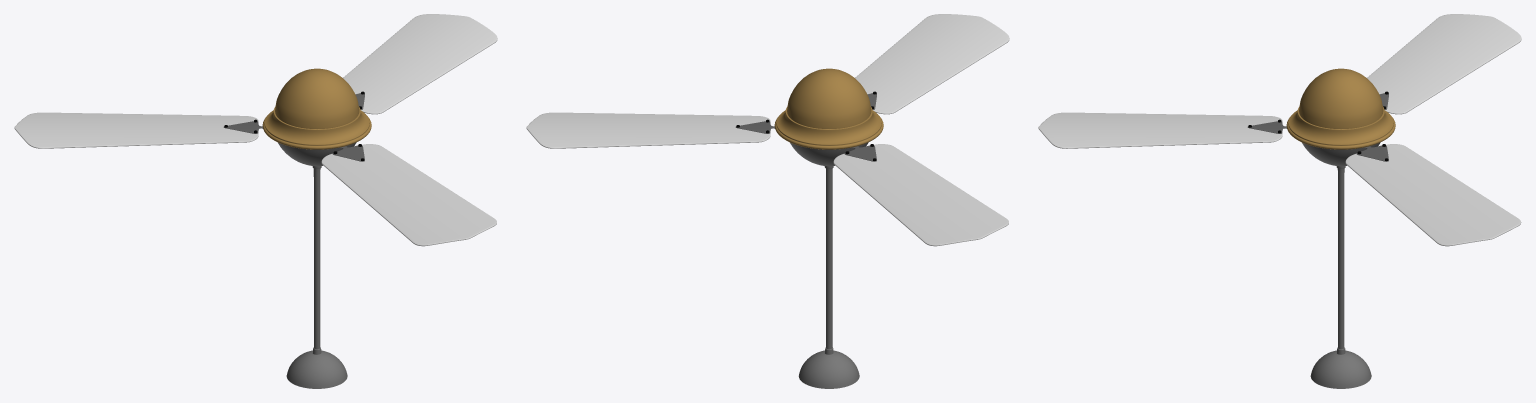
Rendered from CeilingFan.fbx.
3 renders of one model, left to right at view 1: azimuth 30°, elevation 25°; view 2: azimuth 150°, elevation 25°; view 3: azimuth 270°, elevation 25°, orthographic.
Parts seen in each view (by area): view 1: CeilingFan; view 2: CeilingFan; view 3: CeilingFan.
Part boxes in pixels (left/top/right/bottom): CeilingFan: left=14, top=14, right=497, bottom=388; CeilingFan: left=526, top=14, right=1009, bottom=388; CeilingFan: left=1038, top=14, right=1521, bottom=388.
Size of the model in its own units: 103 by 64.23 by 92.45.
